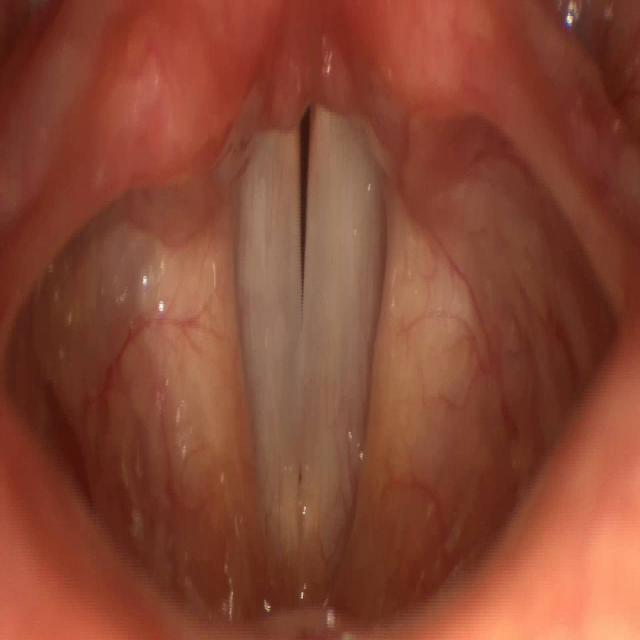arytenoid cartilagerotation: (88, 4, 524, 198)
larynxrotation: (228, 85, 393, 594)
